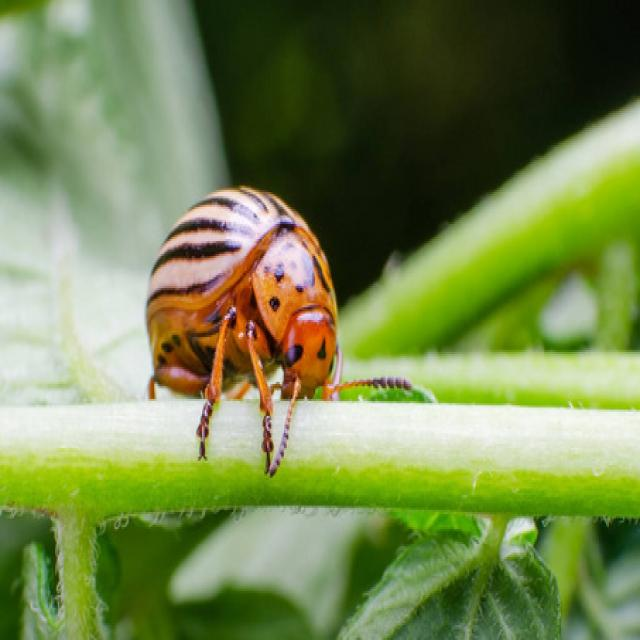ShuCaiHuaBanChong-Grown-: (142, 176, 340, 419)
